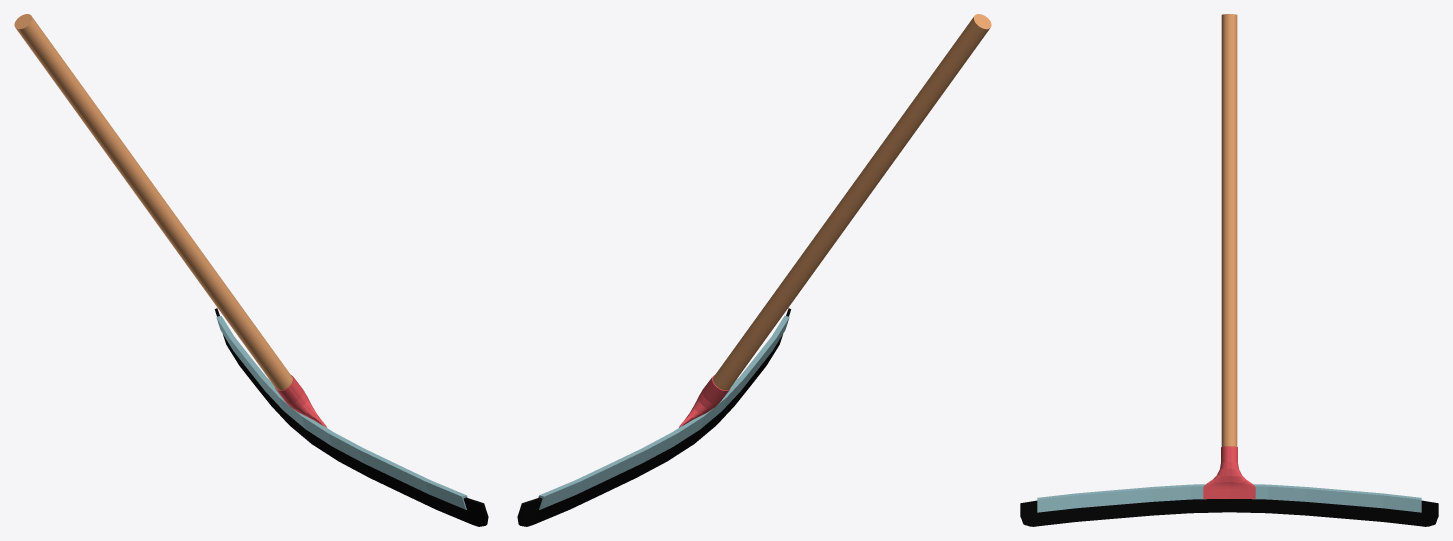
File: squeegee_low.fbx
3 views of the same model, side by side, from view 1: azimuth 30°, elevation 25°; view 2: azimuth 150°, elevation 25°; view 3: azimuth 270°, elevation 25° (orthographic). The views are drawn at different scales.
Visible parts, largest first — view 1: squeegee_low; view 2: squeegee_low; view 3: squeegee_low.
Boxes of the visible parts, x1=… form: squeegee_low: x1=14, y1=14, x2=488, y2=526; squeegee_low: x1=517, y1=14, x2=991, y2=526; squeegee_low: x1=1020, y1=14, x2=1438, y2=526.
Size of the model in its own units: 2312 by 3231 by 3139.
